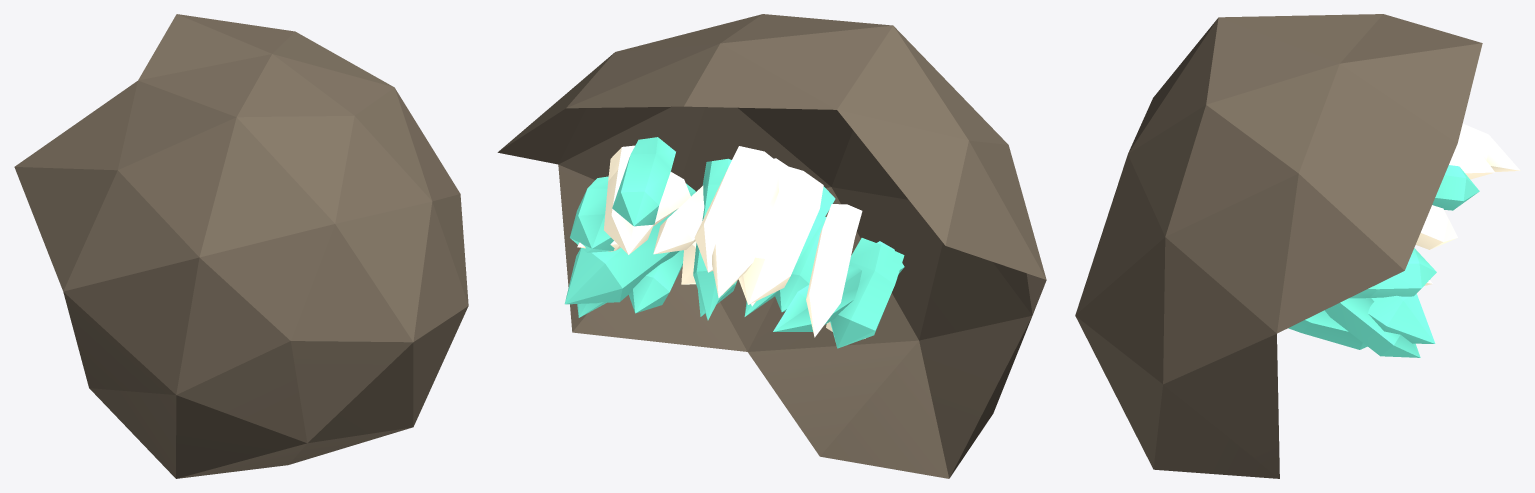
The model's file is find_geode.glb.
3 views of the same model, side by side, from view 1: azimuth 30°, elevation 25°; view 2: azimuth 150°, elevation 25°; view 3: azimuth 270°, elevation 25° (orthographic). The views are drawn at different scales.
Visible parts, largest first — view 1: Geode; view 2: Geode; view 3: Geode.
Part boxes in pixels (x1=…): Geode: x1=14, y1=14, x2=468, y2=478; Geode: x1=497, y1=14, x2=1046, y2=478; Geode: x1=1075, y1=14, x2=1520, y2=478.
Bounding box in the file's own units: 0.3904 × 0.3451 × 0.3316.
